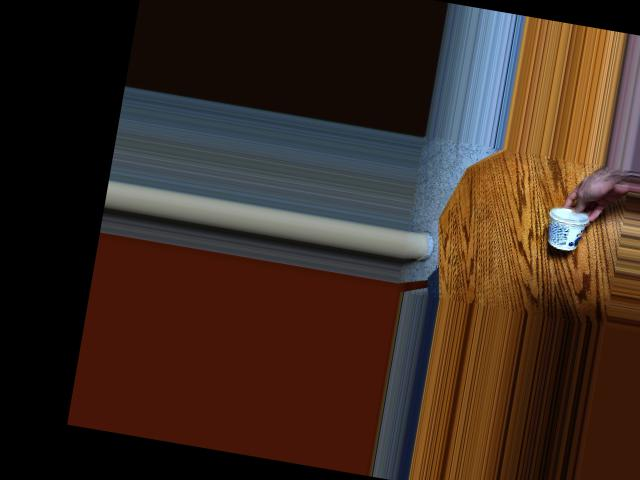cotage: (544, 203, 594, 252)
